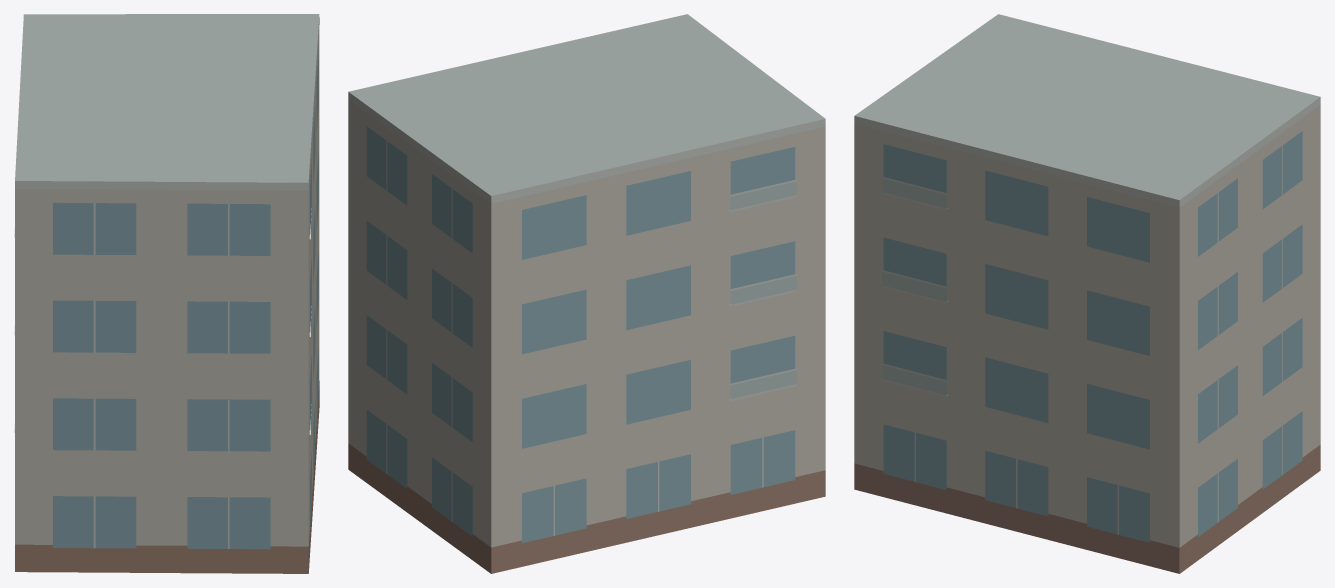
The model's file is survey-upis-32890291.glb.
The picture shows the model from 3 angles, left to right: view 1: azimuth 30°, elevation 25°; view 2: azimuth 150°, elevation 25°; view 3: azimuth 270°, elevation 25°; orthographic projection. The views are drawn at different scales.
Visible parts, largest first — view 1: survey-upis-32890291.tmp; view 2: survey-upis-32890291.tmp; view 3: survey-upis-32890291.tmp.
Boxes of the visible parts, <box> form: survey-upis-32890291.tmp: <box>14,14,319,573</box>; survey-upis-32890291.tmp: <box>348,14,825,573</box>; survey-upis-32890291.tmp: <box>854,14,1320,573</box>.
Bounding box in the file's own units: 12.85 × 12.02 × 13.6.
